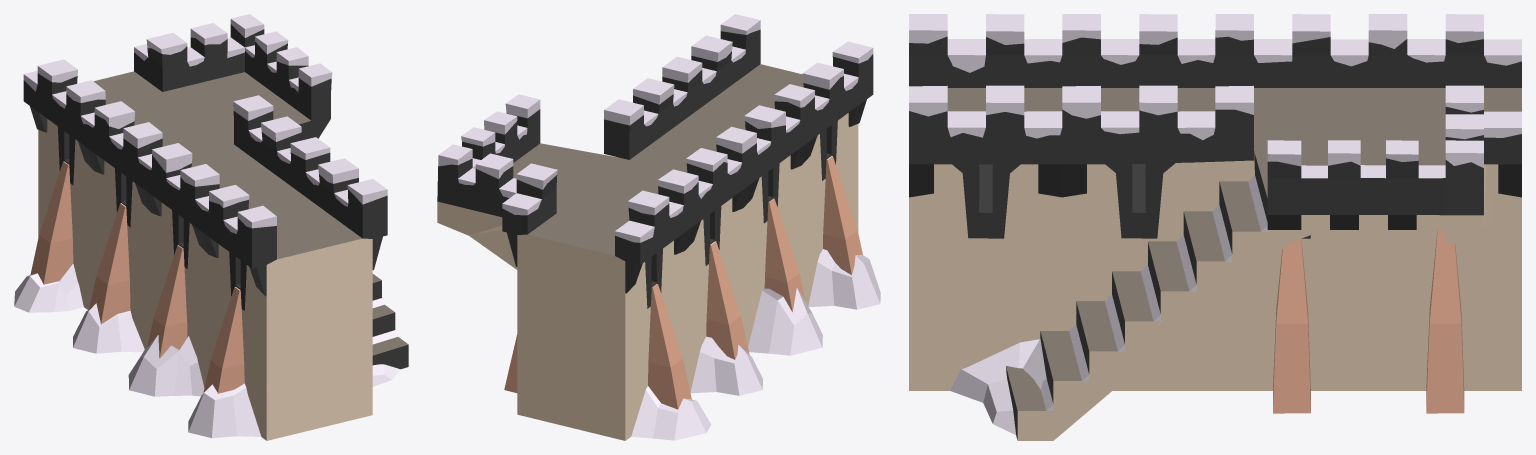
The model's file is wall4.glb.
3 renders of one model, left to right at view 1: azimuth 30°, elevation 25°; view 2: azimuth 150°, elevation 25°; view 3: azimuth 270°, elevation 25°, orthographic. The views are drawn at different scales.
Visible parts, largest first — view 1: Wall4; view 2: Wall4; view 3: Wall4.
Boxes of the visible parts, x1,y1,x2,y2 form: Wall4: (14,14,408,440); Wall4: (437,14,880,440); Wall4: (909,14,1521,440).
Size of what is drawn, in the model's own units: 5.08 by 4.29 by 8.
1 material, 1 textured.
